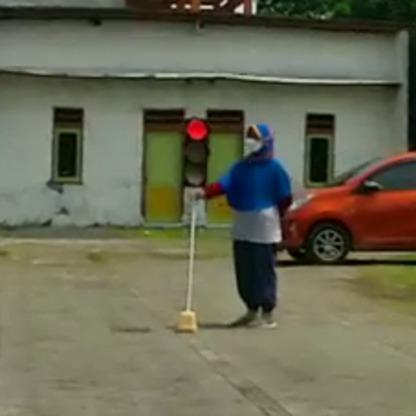red: (180, 116, 211, 190)
